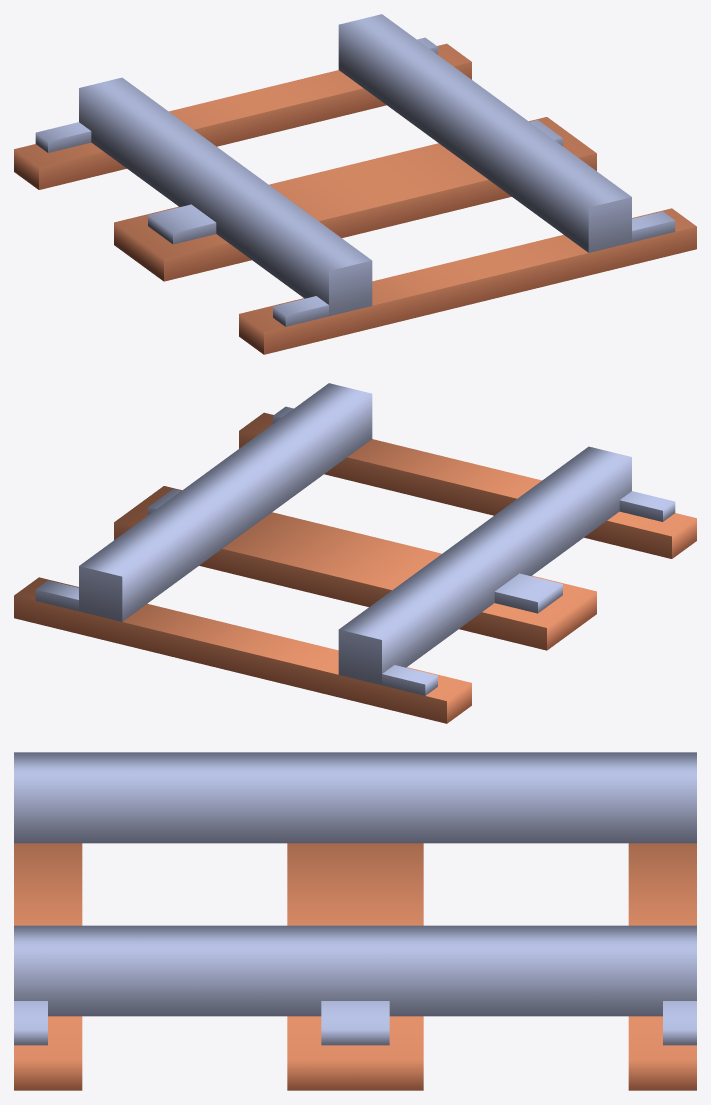
The model's file is kenney-train-track-detailed.glb.
3 renders of one model, top to bottom at view 1: azimuth 30°, elevation 25°; view 2: azimuth 150°, elevation 25°; view 3: azimuth 270°, elevation 25°, orthographic. The views are drawn at different scales.
Parts seen in each view (by area): view 1: track-detailed; view 2: track-detailed; view 3: track-detailed.
Part boxes in pixels (x1,y1,x2,y2): track-detailed: [14, 14, 696, 354]; track-detailed: [14, 383, 696, 723]; track-detailed: [14, 752, 696, 1090].
Size of the model in its own units: 1 by 0.15 by 1.
Materials: 1 (1 with a texture image).
